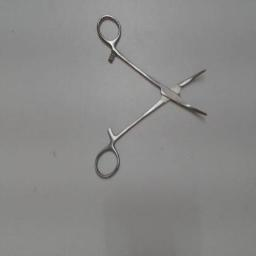Crile Artery Forceps: (90, 11, 212, 183)
